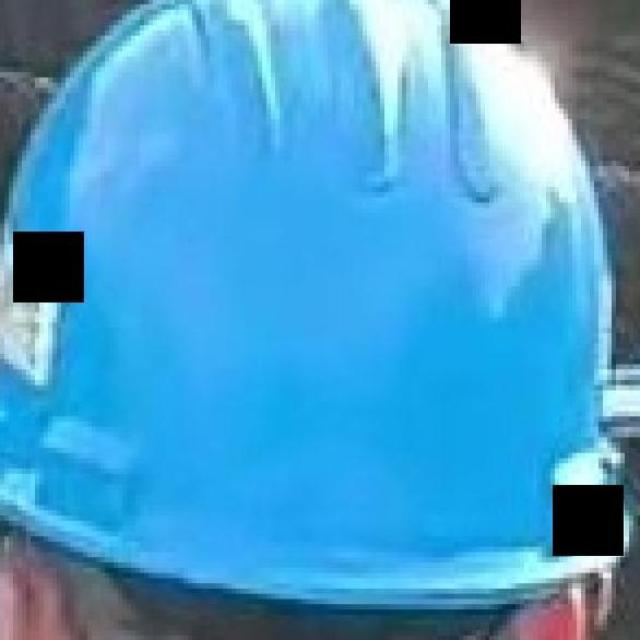blue helmet: (1, 1, 640, 623)
